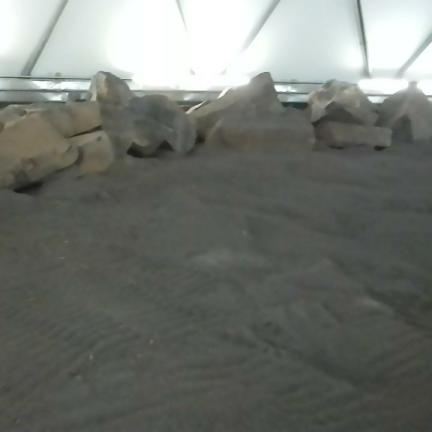Rock: (188, 72, 283, 136), (0, 113, 78, 188), (206, 108, 315, 152), (129, 95, 196, 154), (101, 104, 172, 158), (0, 102, 100, 137), (377, 83, 431, 142), (308, 80, 377, 125), (69, 131, 115, 174), (315, 122, 391, 148), (87, 71, 133, 104)
